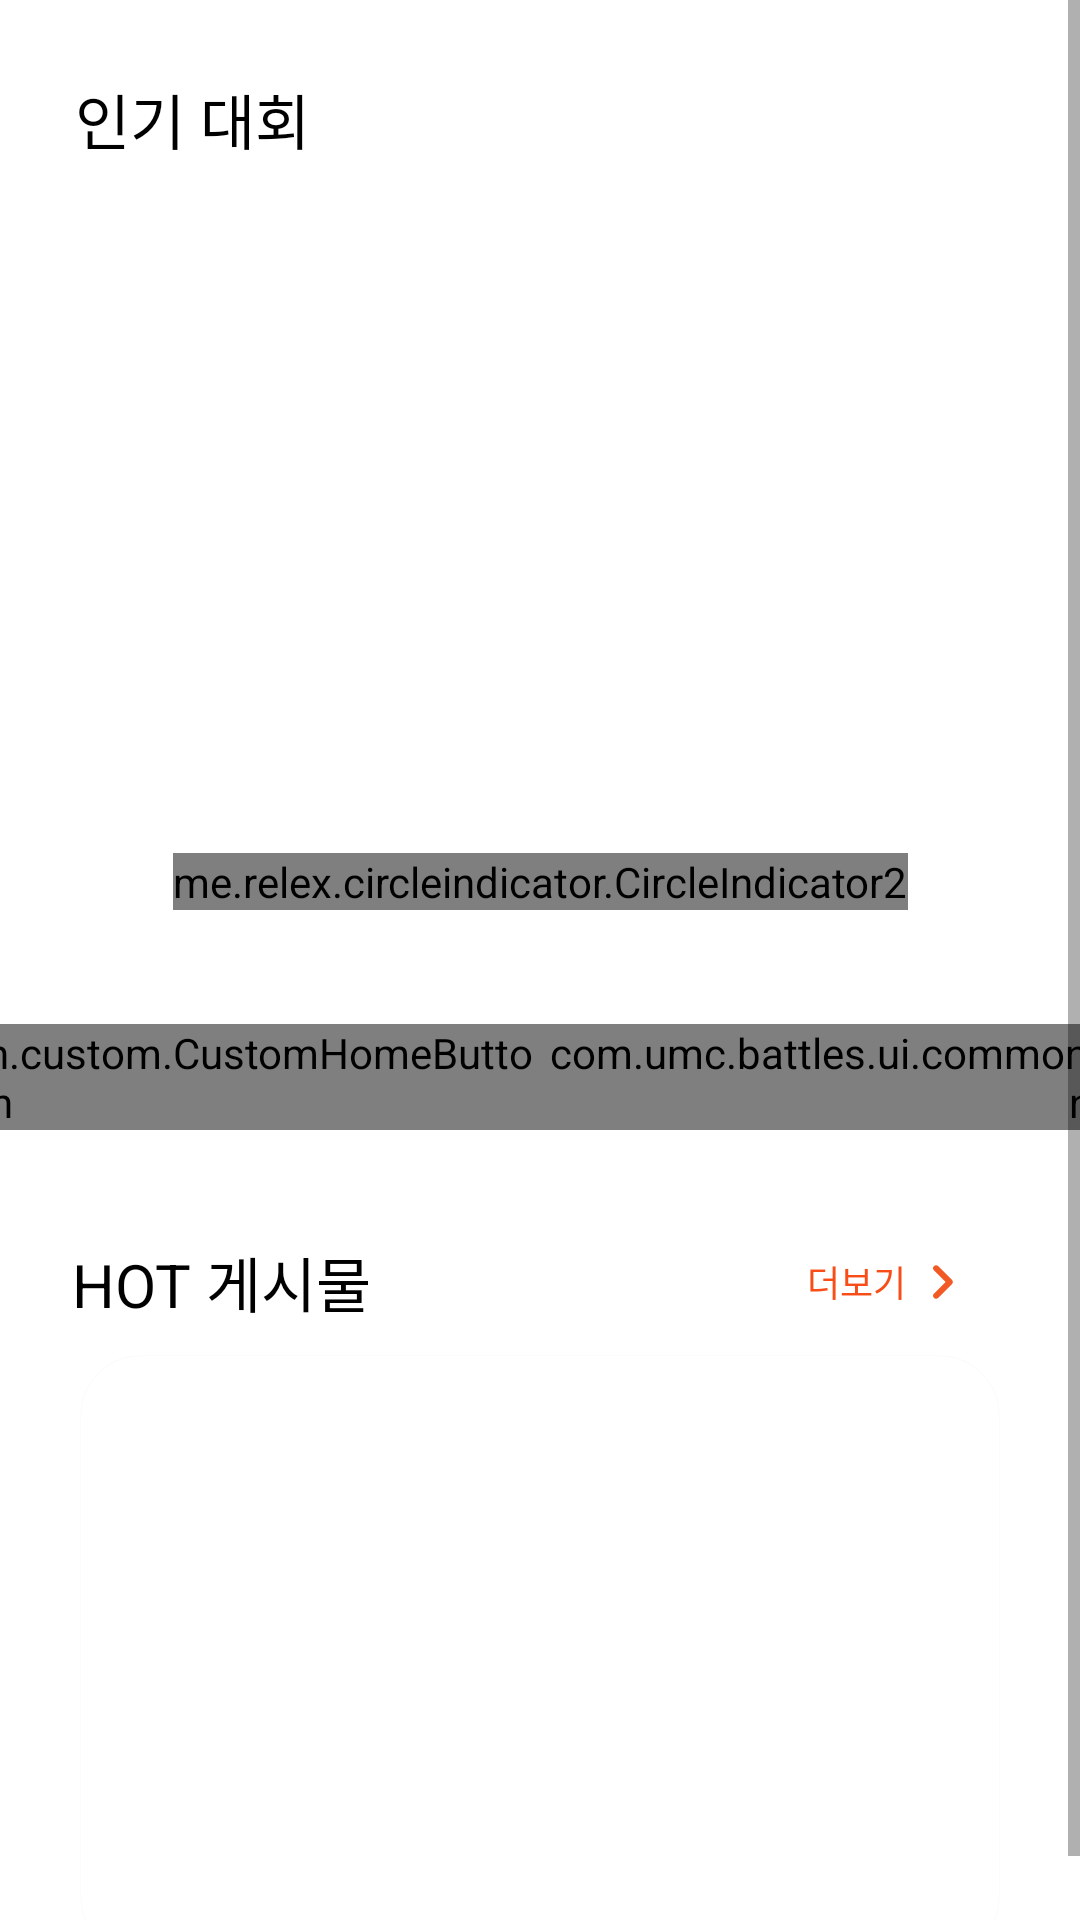

Where to tap for icons on this 1080px x 1920px app screen, as (x=x, y=y):
next: (x=943, y=1282)
